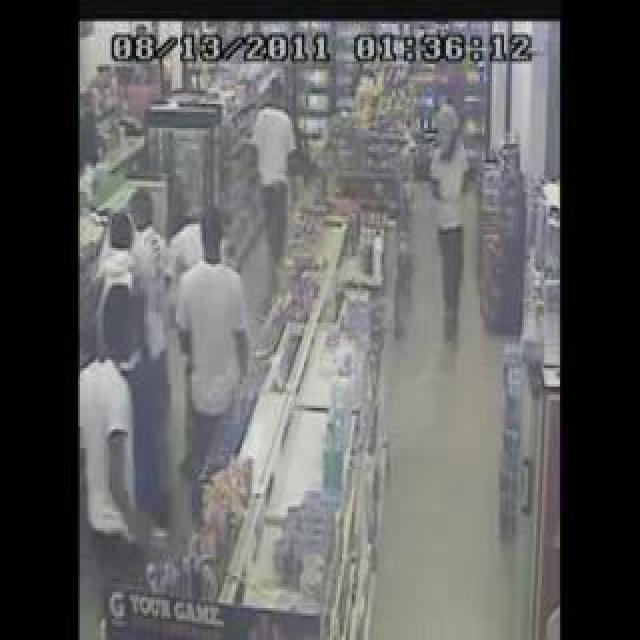thief: (108, 190, 235, 296), (417, 95, 489, 172), (95, 307, 138, 385), (264, 76, 293, 130)
